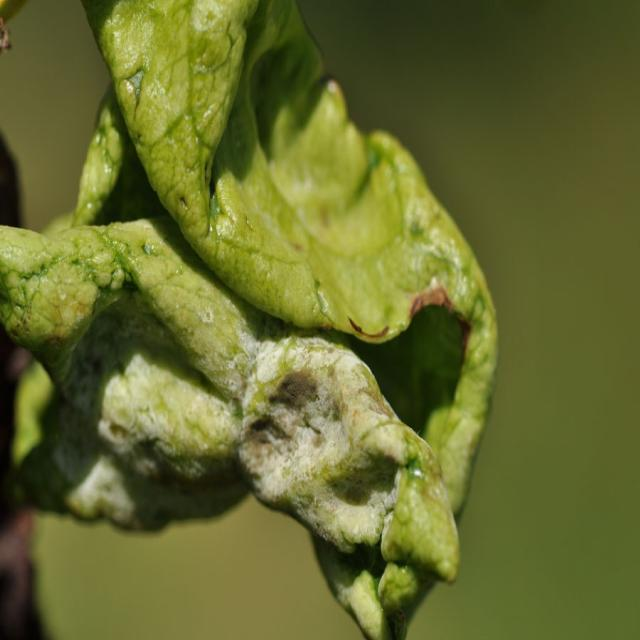peach_leaf_curl: (1, 0, 499, 637)
